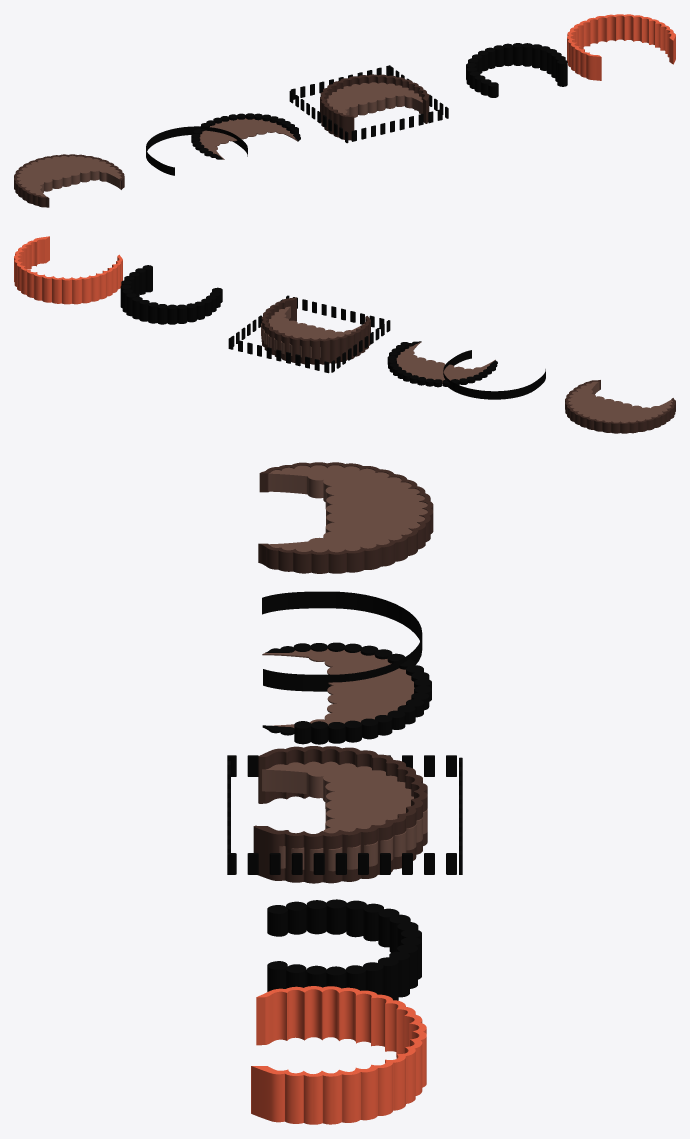
File: emoji_u1f9b1.glb
The picture shows the model from 3 angles, top to bottom: view 1: azimuth 30°, elevation 25°; view 2: azimuth 150°, elevation 25°; view 3: azimuth 270°, elevation 25°; orthographic projection. The views are drawn at different scales.
Parts seen in each view (by area): view 1: emoji_u1f9b1; view 2: emoji_u1f9b1; view 3: emoji_u1f9b1.
Boxes of the visible parts, left/top/right/bottom form: emoji_u1f9b1: left=14, top=14, right=675, bottom=207; emoji_u1f9b1: left=14, top=236, right=675, bottom=433; emoji_u1f9b1: left=227, top=462, right=462, bottom=1124.
Size of the model in its own units: 0.225 by 0.008 by 0.0355.
